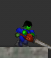blue_player: (11, 7, 41, 51)
